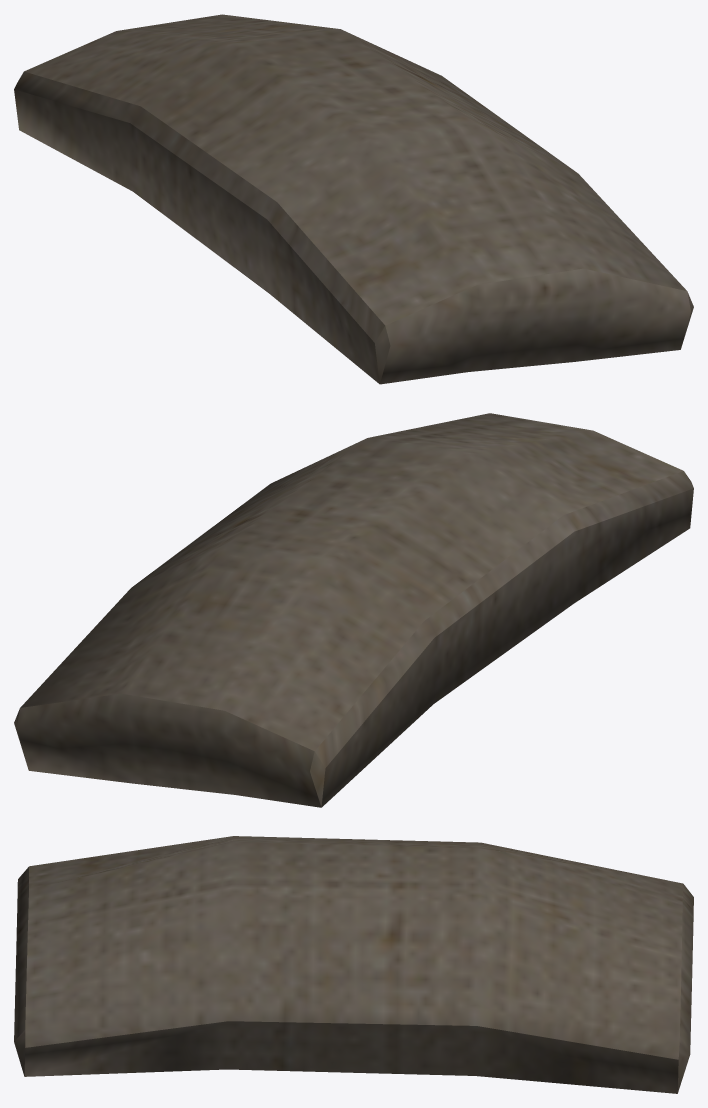
File: sacoarena.fbx
The picture shows the model from 3 angles, top to bottom: view 1: azimuth 30°, elevation 25°; view 2: azimuth 150°, elevation 25°; view 3: azimuth 270°, elevation 25°; orthographic projection. The views are drawn at different scales.
Visible parts, largest first — view 1: Object122; view 2: Object122; view 3: Object122.
Part boxes in pixels (x1,y1,x2,y2): Object122: (14,14,693,384); Object122: (14,413,693,807); Object122: (14,836,693,1093).
Size of the model in its own units: 29.21 by 15.94 by 59.35.
